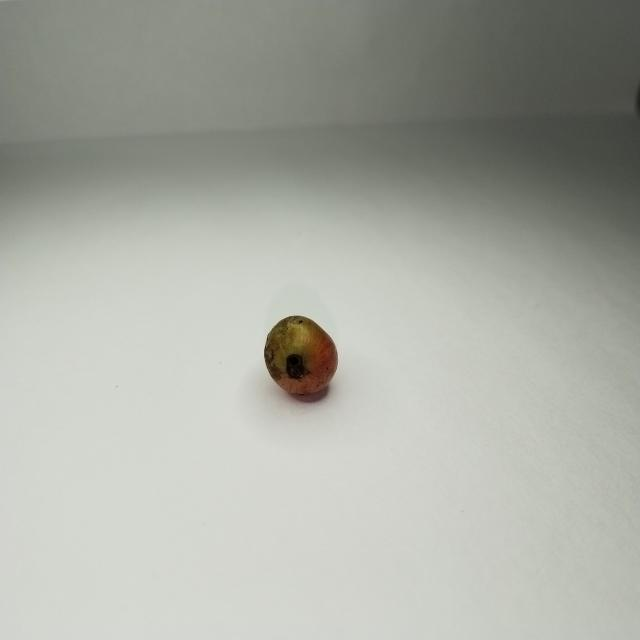Infectado: (264, 316, 339, 393)
